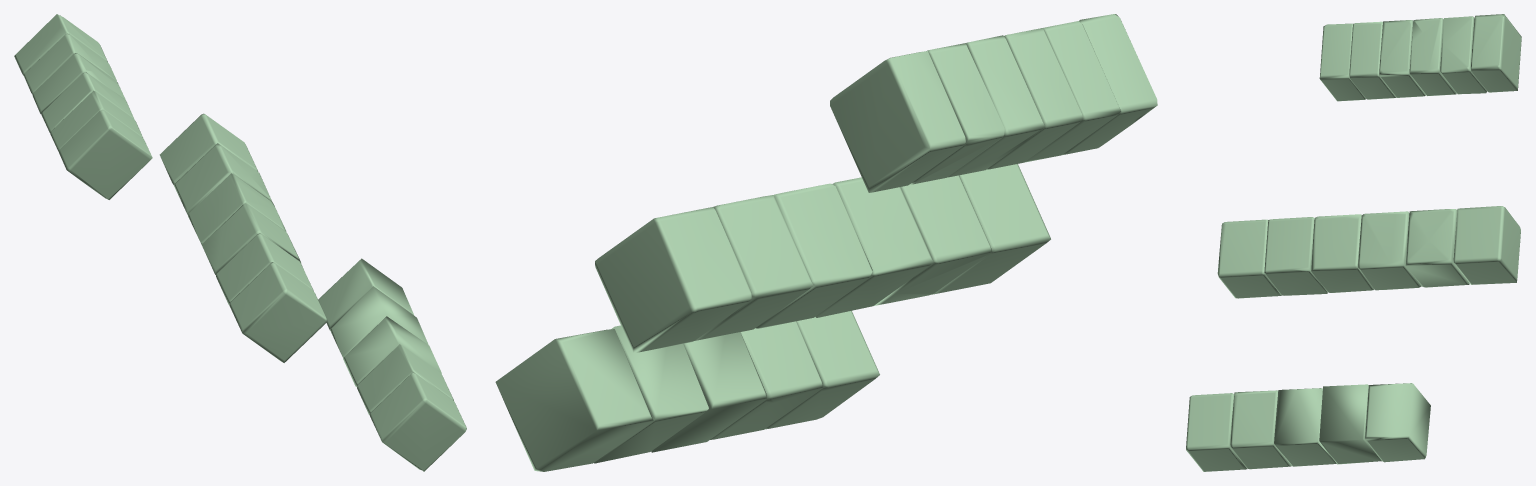
Rendered from VHM_Spleen_Extraction_Sites_1x6.fbx.
The picture shows the model from 3 angles, left to right: view 1: azimuth 30°, elevation 25°; view 2: azimuth 150°, elevation 25°; view 3: azimuth 270°, elevation 25°; orthographic projection. The views are drawn at different scales.
Parts seen in each view (by area): view 1: CC2_1_1x6, CC3_2_1x6, CC1_1_1x6, CC2_6_1x6, CC2_5_1x6, CC2_3_1x6, CC2_4_1x6, CC3_5_1x6, CC2_2_1x6, CC3_4_1x6, CC3_3_1x6, CC3_6_1x6 (+5 smaller); view 2: CC2_6_1x6, CC3_6_1x6, CC1_6_1x6, CC2_4_1x6, CC2_5_1x6, CC2_3_1x6, CC2_2_1x6, CC2_1_1x6, CC3_4_1x6, CC3_5_1x6, CC3_3_1x6, CC3_2_1x6 (+5 smaller); view 3: CC2_6_1x6, CC3_6_1x6, CC2_5_1x6, CC2_4_1x6, CC2_3_1x6, CC2_2_1x6, CC2_1_1x6, CC3_5_1x6, CC3_4_1x6, CC3_3_1x6, CC3_2_1x6, CC1_6_1x6 (+5 smaller).
Boxes of the visible parts, box(x1,y1,x2,y2) form: CC2_1_1x6: box(229, 262, 327, 362); CC3_2_1x6: box(369, 373, 466, 471); CC1_1_1x6: box(59, 110, 152, 199); CC2_6_1x6: box(159, 113, 258, 184); CC2_5_1x6: box(173, 143, 272, 214); CC2_3_1x6: box(202, 203, 300, 274); CC2_4_1x6: box(188, 173, 286, 244); CC3_5_1x6: box(330, 286, 428, 357); CC2_2_1x6: box(216, 233, 313, 305); CC3_4_1x6: box(343, 316, 441, 386); CC3_3_1x6: box(357, 344, 453, 414); CC3_6_1x6: box(318, 258, 414, 329); CC2_6_1x6: box(595, 207, 752, 353); CC3_6_1x6: box(495, 329, 653, 471); CC1_6_1x6: box(830, 51, 966, 192); CC2_4_1x6: box(756, 183, 872, 328); CC2_5_1x6: box(695, 195, 813, 340); CC2_3_1x6: box(815, 177, 933, 317); CC2_2_1x6: box(874, 175, 992, 305); CC2_1_1x6: box(932, 164, 1050, 294); CC3_4_1x6: box(651, 332, 766, 452); CC3_5_1x6: box(594, 325, 708, 463); CC3_3_1x6: box(710, 321, 823, 439); CC3_2_1x6: box(764, 310, 879, 429); CC2_6_1x6: box(1453, 206, 1520, 284); CC3_6_1x6: box(1364, 383, 1430, 462); CC2_5_1x6: box(1405, 209, 1469, 287); CC2_4_1x6: box(1357, 211, 1421, 290); CC2_3_1x6: box(1311, 214, 1374, 292); CC2_2_1x6: box(1264, 217, 1327, 295); CC2_1_1x6: box(1217, 219, 1281, 298); CC3_5_1x6: box(1319, 384, 1381, 464); CC3_4_1x6: box(1274, 388, 1336, 466); CC3_3_1x6: box(1230, 390, 1291, 469); CC3_2_1x6: box(1186, 393, 1246, 471); CC1_6_1x6: box(1470, 14, 1521, 92).
Size of the model in its own units: 7.34 by 7.36 by 6.15.
